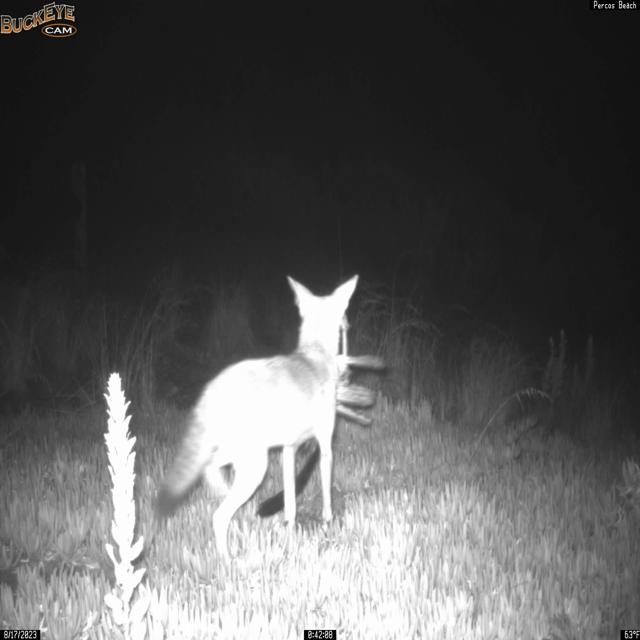coyote: (152, 272, 364, 565)
